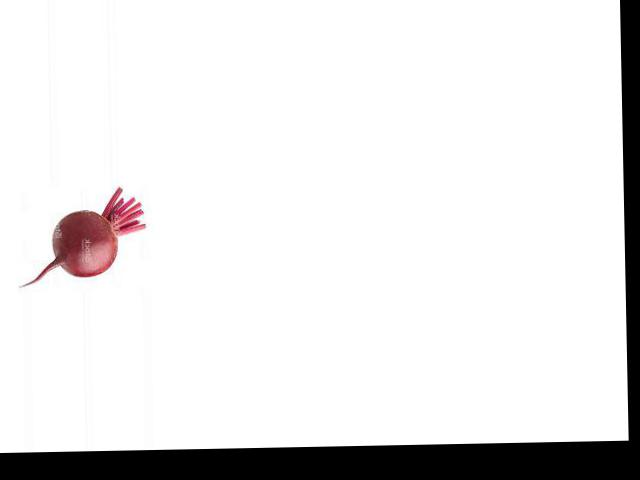beet: (20, 186, 146, 287)
